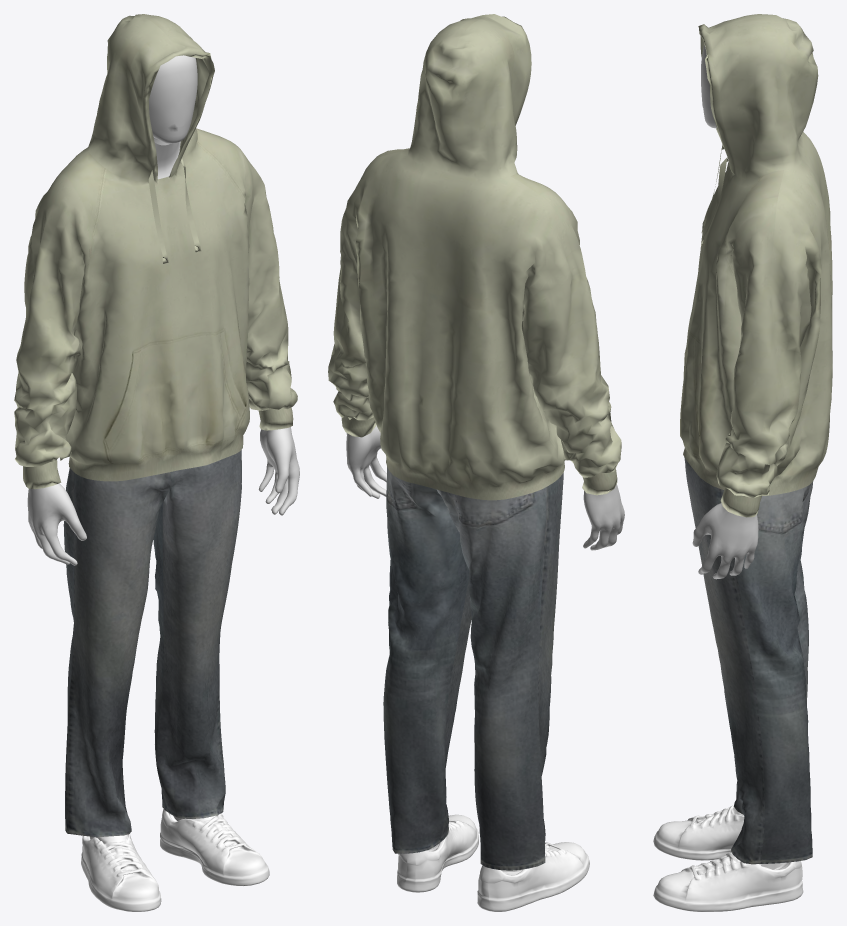
File: outfit20.glb
The picture shows the model from 3 angles, left to right: view 1: azimuth 30°, elevation 25°; view 2: azimuth 150°, elevation 25°; view 3: azimuth 270°, elevation 25°; orthographic projection. The views are drawn at different scales.
Parts seen in each view (by area): view 1: soishirt_2, body_2.001_0, shoes_l_Shape.001_1; view 2: soishirt_2, shoes_l_Shape.001_1, body_2.001_0; view 3: soishirt_2, shoes_l_Shape.001_1, body_2.001_0.
Boxes of the visible parts, x1,y1,x2,y2 form: soishirt_2: (14,14,297,837); body_2.001_0: (27,55,299,839); shoes_l_Shape.001_1: (81,809,269,911); soishirt_2: (328,14,621,870); shoes_l_Shape.001_1: (397,814,589,911); body_2.001_0: (346,425,624,872); soishirt_2: (680,14,832,864); shoes_l_Shape.001_1: (653,805,803,911); body_2.001_0: (692,45,786,869).
Size of the model in its own units: 0.6492 by 1.9 by 0.3604.
3 materials, 1 textured.
